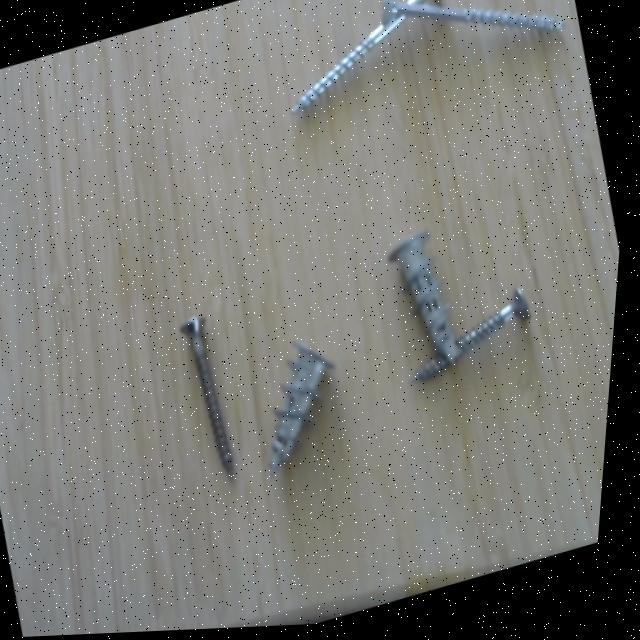Black screw: (164, 298, 270, 493), (399, 282, 555, 398)
Long screw: (260, 0, 474, 134), (367, 0, 572, 90)
Short screw: (238, 321, 370, 492), (374, 214, 478, 384)
